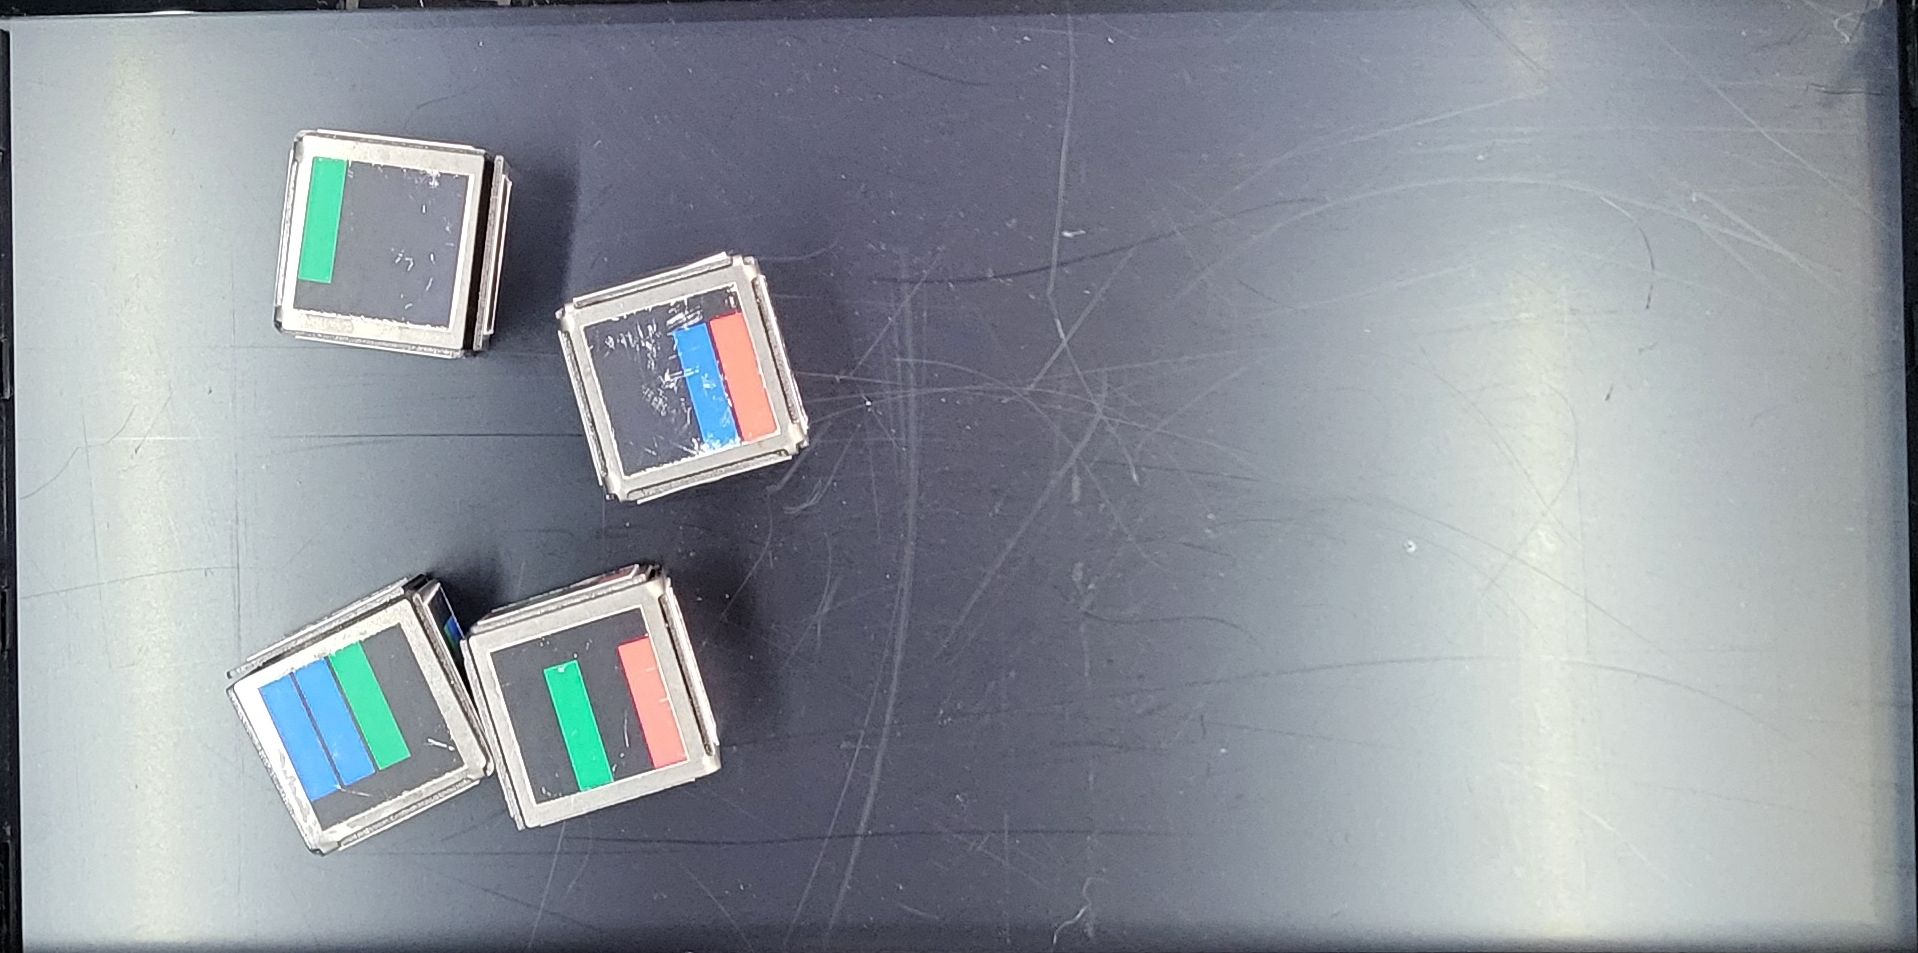Cube: (455, 542, 744, 850), (207, 562, 492, 864), (549, 230, 826, 508), (254, 120, 521, 372)
